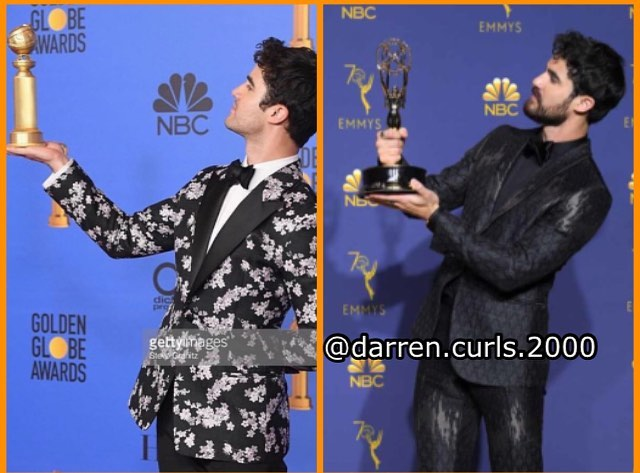hand: (2, 134, 62, 169)
